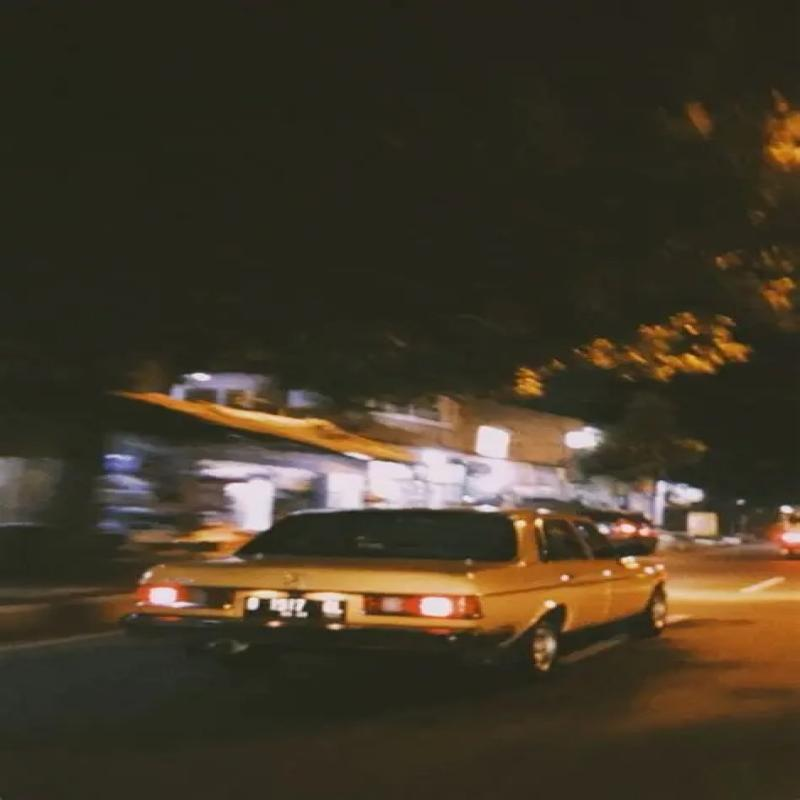license plate on a car: (245, 590, 354, 628)
